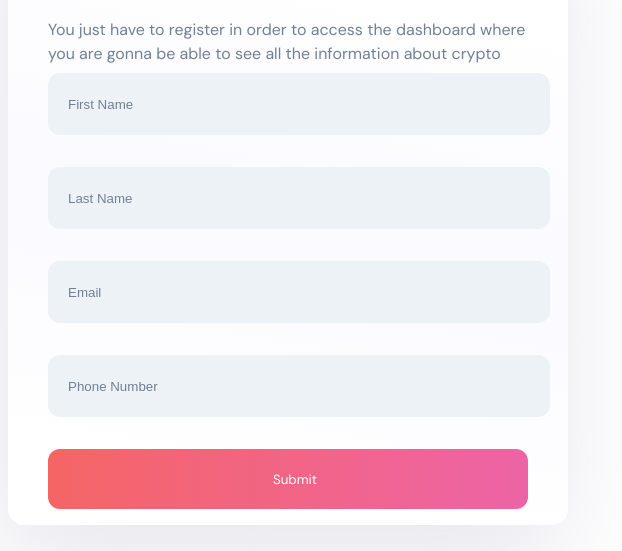
Test: Homepage accordion component › useForm hook should update the context correctly
The width and height of the screenshot is (622, 551).
Type "Javier" into the field labelled "First Name". click: coordinates (299, 104)
box: [48,73,550,135]
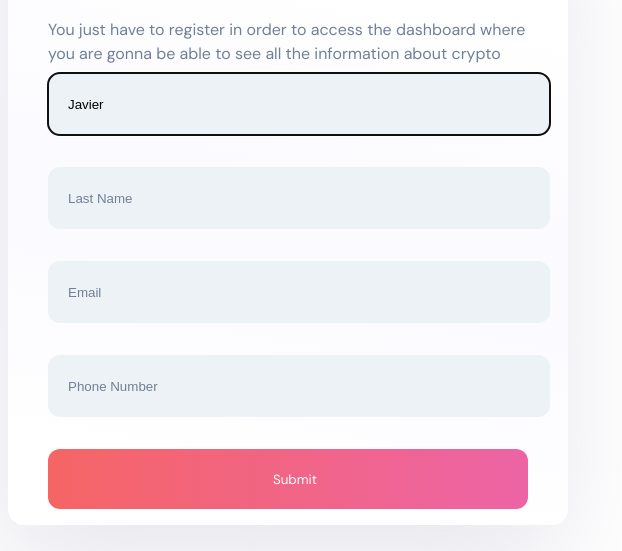
Type "Fuentes Mora" into the field labelled "Last Name". click: coordinates (299, 198)
box: [48,167,550,229]
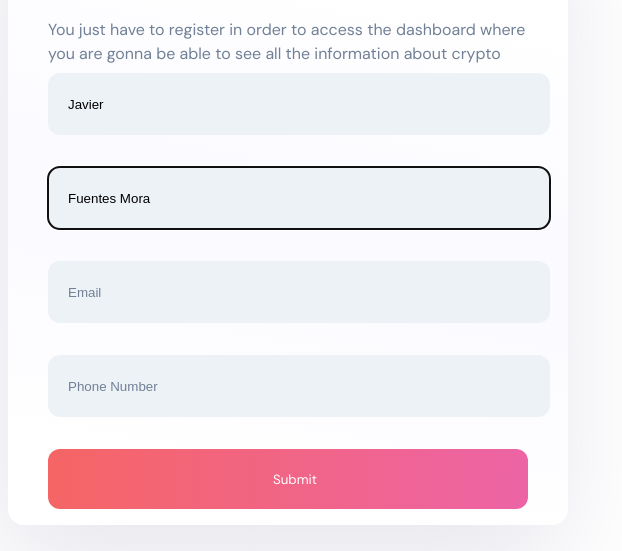
Type "test@hotmail.com" into the field labelled "Email". click: coordinates (299, 292)
box: [48,261,550,323]
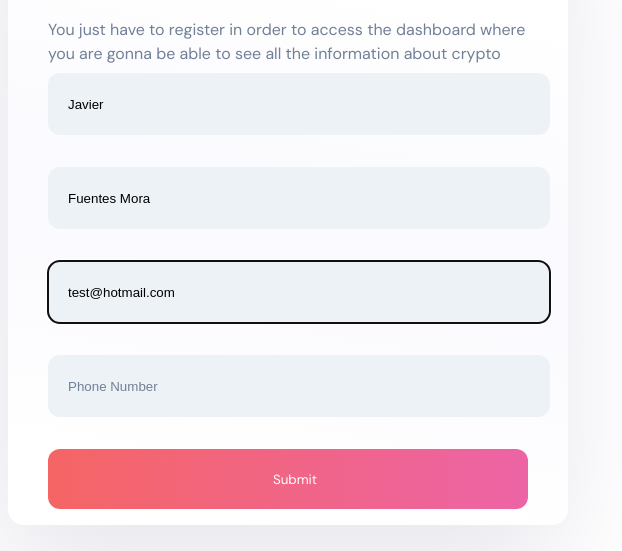
Type "5513559665" into the field labelled "Phone Number". click: coordinates (299, 386)
box: [48,355,550,417]
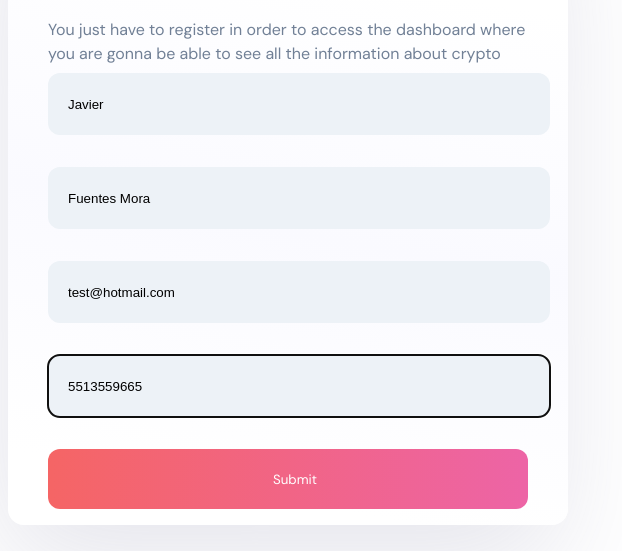
Click the button "Submit". click: coordinates (288, 479)
box: [48,449,528,509]
(page scrolled)
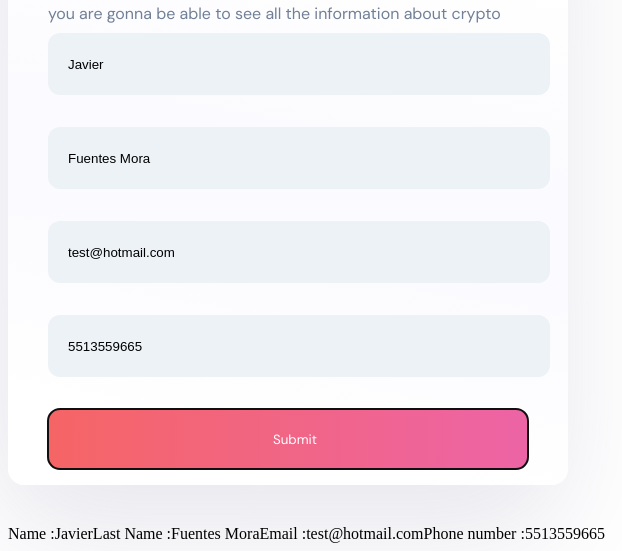
Expected: the text with test id "first-name" reads "Javier", [55,525,93,542]
Expected: the text with test id "last-name" reads "Fuentes Mora", [171,525,260,542]
Expected: the text with test id "email" reads "test@hotmail.com", [306,525,424,542]
